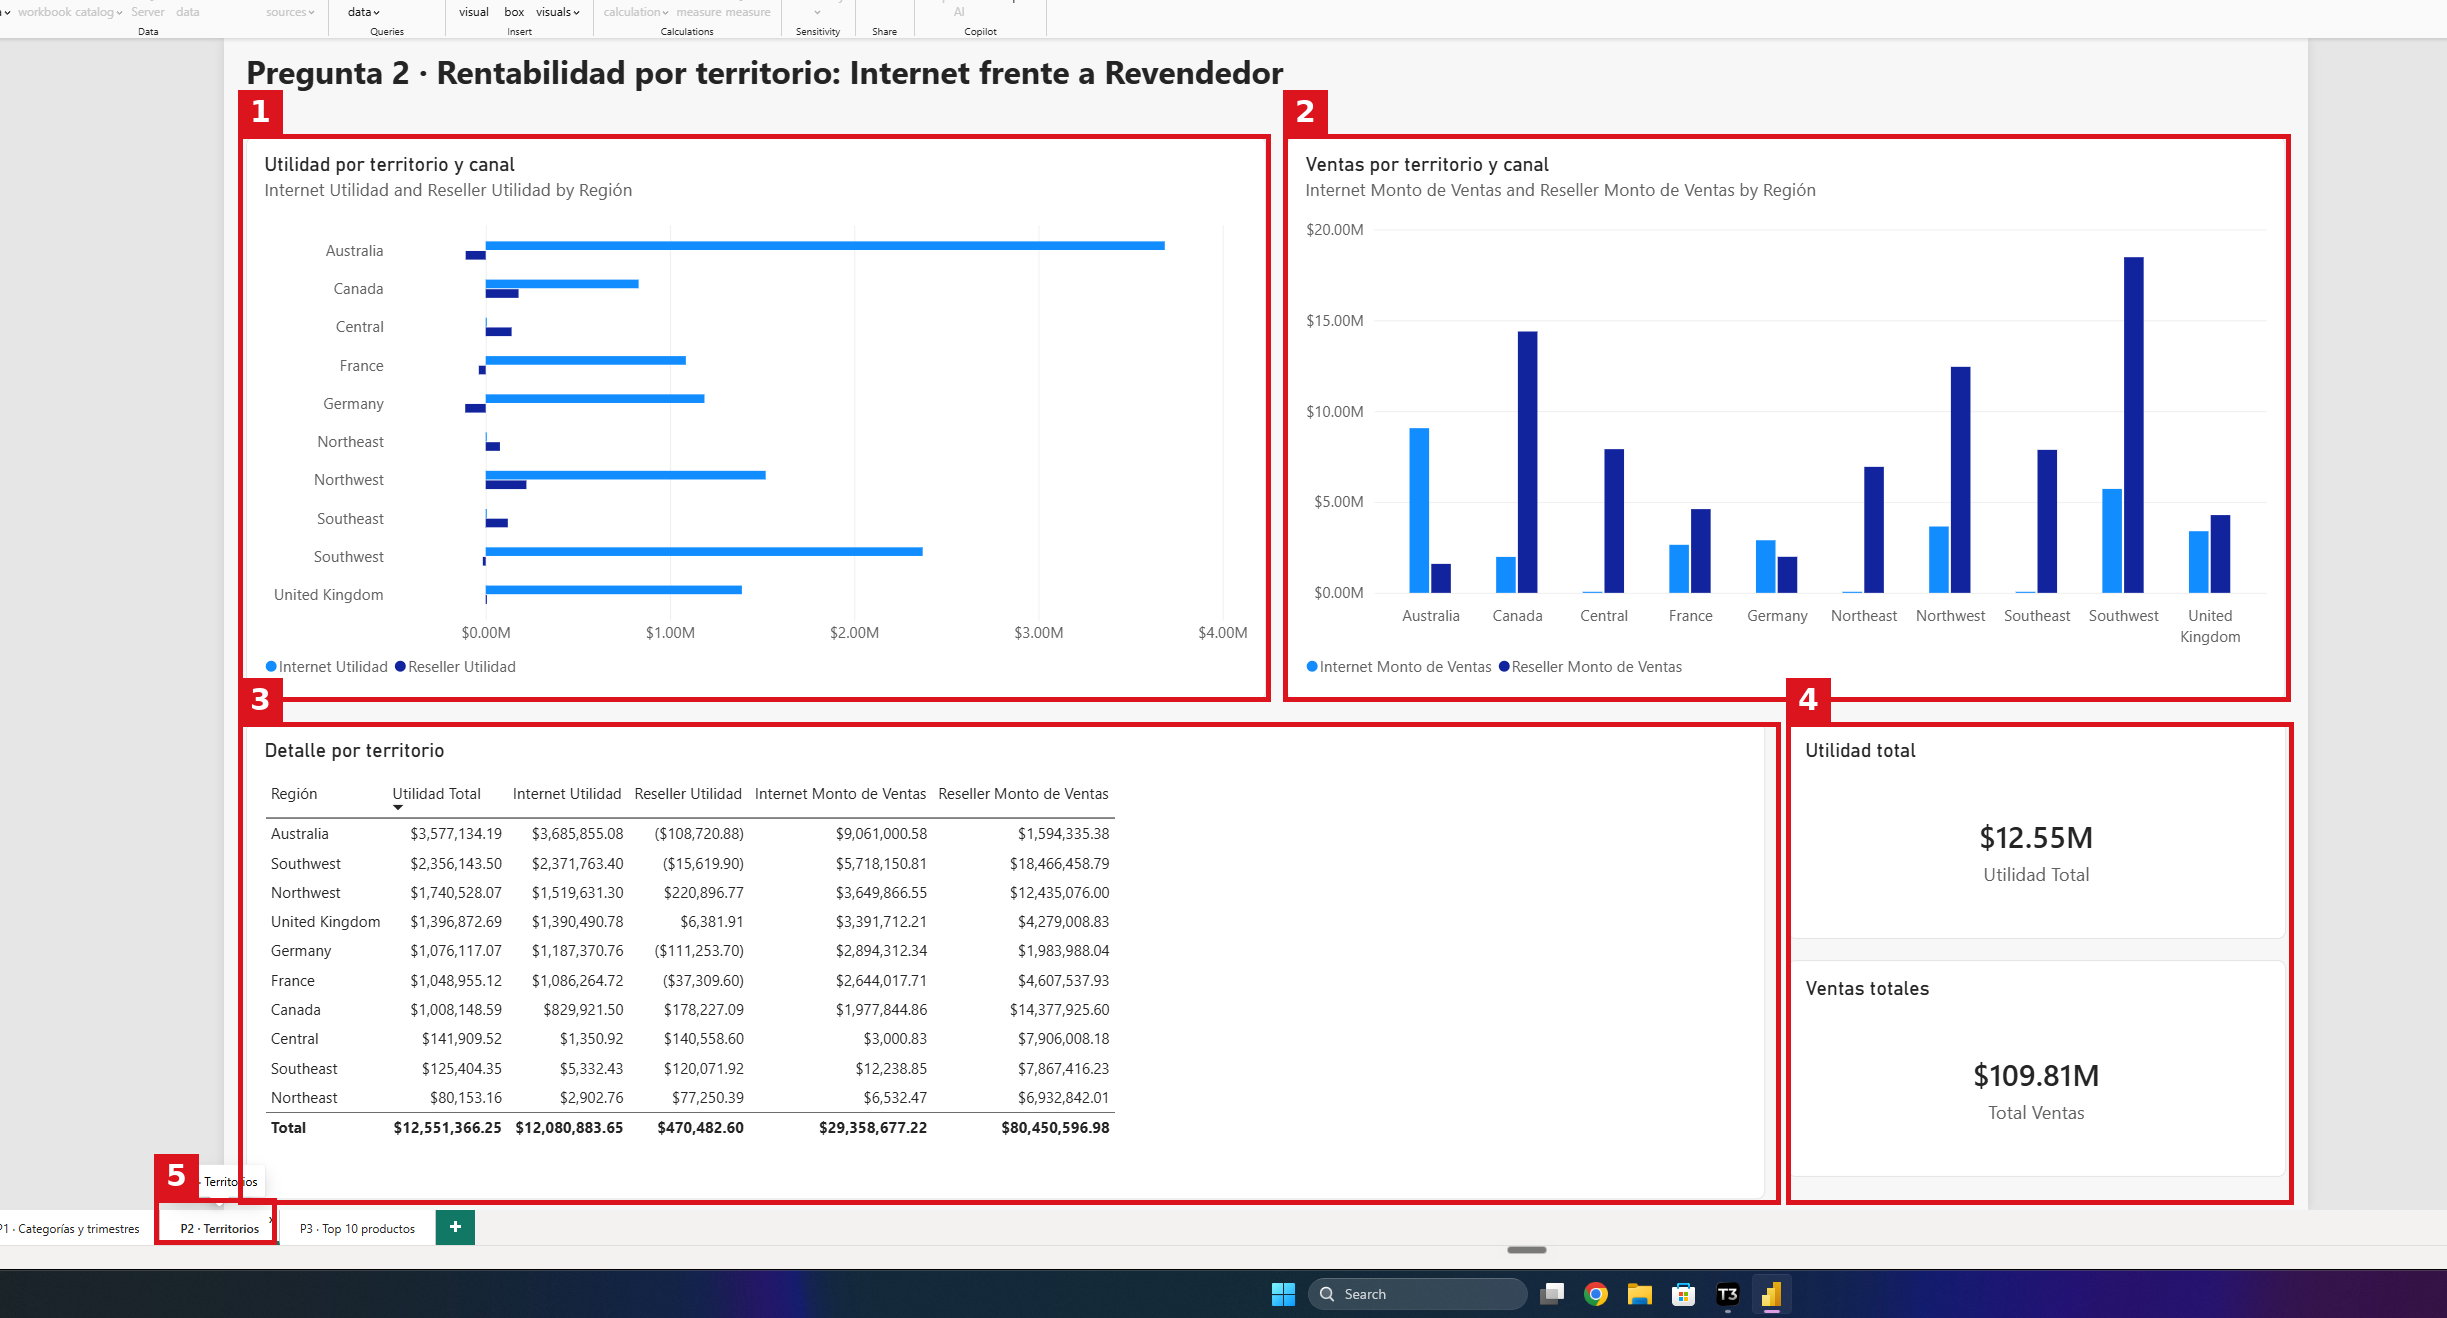

The page's visual inventory and layout, read from the dashboard file:
{"tool":"powerbi","page":{"name":"P2 · Territorios","canvas":[1920,1080],"ordinal":1},"visuals":[{"type":"textbox","box":[20,10,1880,70],"z":0},{"type":"clusteredBarChart","title":"Utilidad por territorio y canal","fields":{"Category":["Territorio de Ventas.Región"],"Y":["Measures.Internet Utilidad","Measures.Reseller Utilidad"]},"box":[20,90,940,520],"z":1},{"type":"clusteredColumnChart","title":"Ventas por territorio y canal","fields":{"Category":["Territorio de Ventas.Región"],"Y":["Ventas por Internet.Internet Monto de Ventas","Ventas por Revendedor.Reseller Monto de Ventas"]},"box":[980,90,920,520],"z":2},{"type":"tableEx","title":"Detalle por territorio","fields":{"Values":["Territorio de Ventas.Región","Measures.Utilidad Total","Measures.Internet Utilidad","Measures.Reseller Utilidad","Ventas por Internet.Internet Monto de Ventas","Ventas por Revendedor.Reseller Monto de Ventas"]},"box":[20,630,1400,440],"z":3},{"type":"card","title":"Utilidad total","fields":{"Values":["Measures.Utilidad Total"]},"box":[1440,630,460,200],"z":4},{"type":"card","title":"Ventas totales","fields":{"Values":["Measures.Total Ventas"]},"box":[1440,850,460,200],"z":5}]}

Visuals, with their boxes on the page's 1920x1080 design canvas (x1, y1, x2, y2). These are canvas units, not pixel positions in the 2447x1318 screenshot, which may show the page scaled, cropped or inside an application window:
textbox: <region>20, 10, 1900, 80</region>
"Utilidad por territorio y canal" clusteredBarChart: <region>20, 90, 960, 610</region>
"Ventas por territorio y canal" clusteredColumnChart: <region>980, 90, 1900, 610</region>
"Detalle por territorio" tableEx: <region>20, 630, 1420, 1070</region>
"Utilidad total" card: <region>1440, 630, 1900, 830</region>
"Ventas totales" card: <region>1440, 850, 1900, 1050</region>
